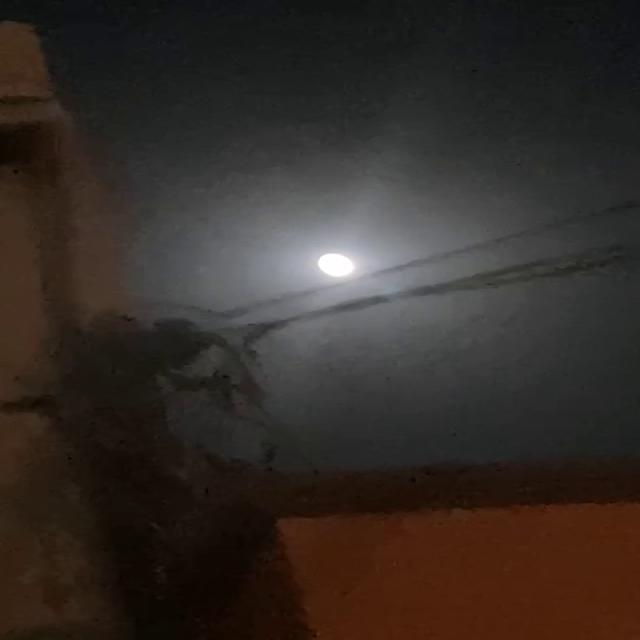moon: (301, 249, 356, 282)
